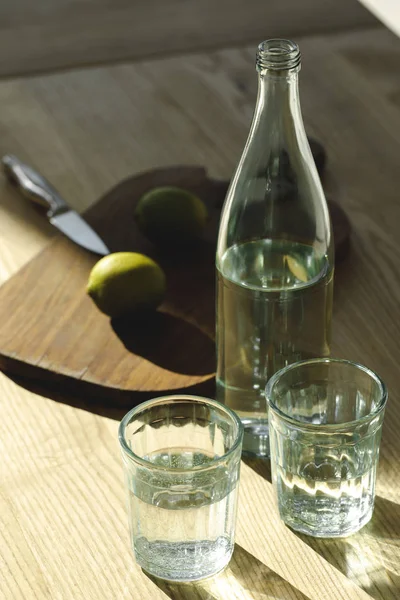glass_bottle: (206, 32, 342, 463)
